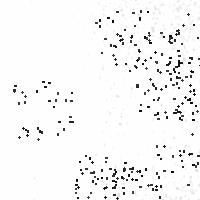pitted_surface: (91, 1, 200, 199), (1, 1, 101, 73), (13, 81, 71, 138), (135, 61, 192, 119), (149, 57, 200, 117), (95, 10, 148, 67), (124, 18, 178, 72), (75, 155, 128, 200), (156, 133, 200, 185), (75, 161, 132, 200), (100, 168, 159, 200), (168, 13, 200, 70)
